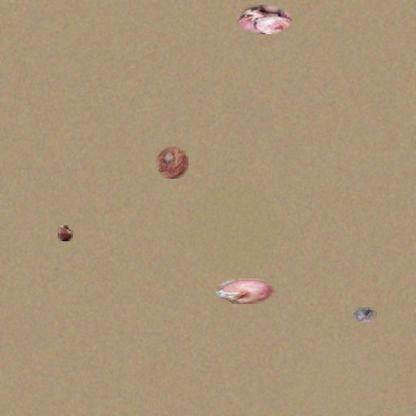damaged: (215, 279, 275, 304)
rotten: (156, 146, 188, 179), (353, 307, 377, 322)
sprouted: (236, 5, 292, 34), (58, 225, 73, 241)
